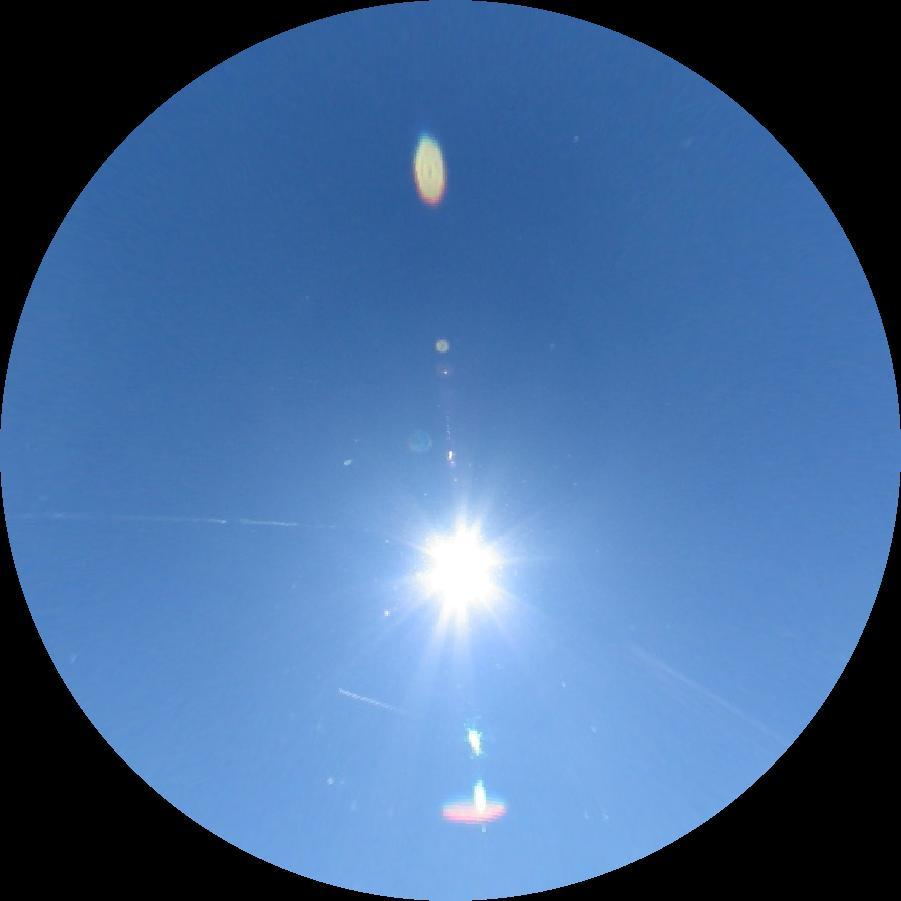contrail young: (334, 686, 409, 720)
parasite: (617, 639, 795, 756), (10, 508, 336, 530)
sun: (401, 512, 516, 628)
